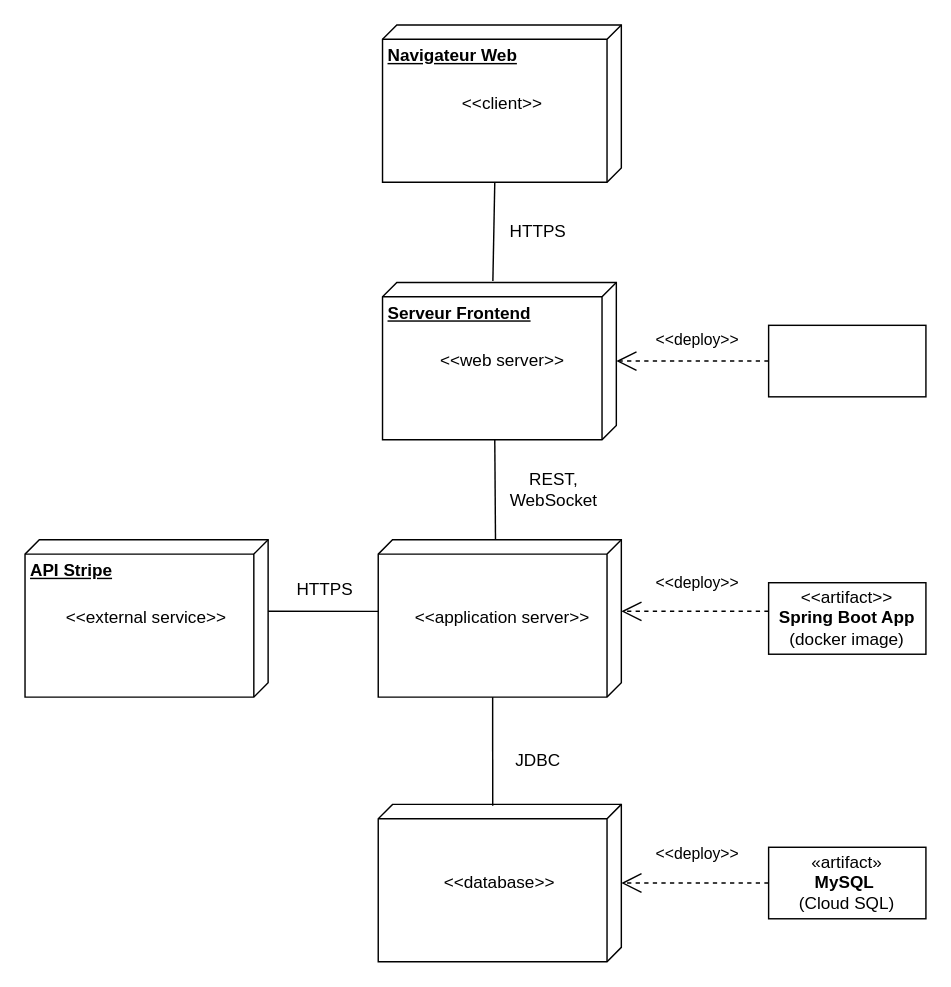
This 951x987 diagram has some shape labels left out. Each missing label, with the box of its shape:
Serveur Backend: (377, 538, 621, 697)
Serveur MySQL: (377, 803, 621, 962)
«artifact» Angular App (docker image): (767, 324, 926, 397)
